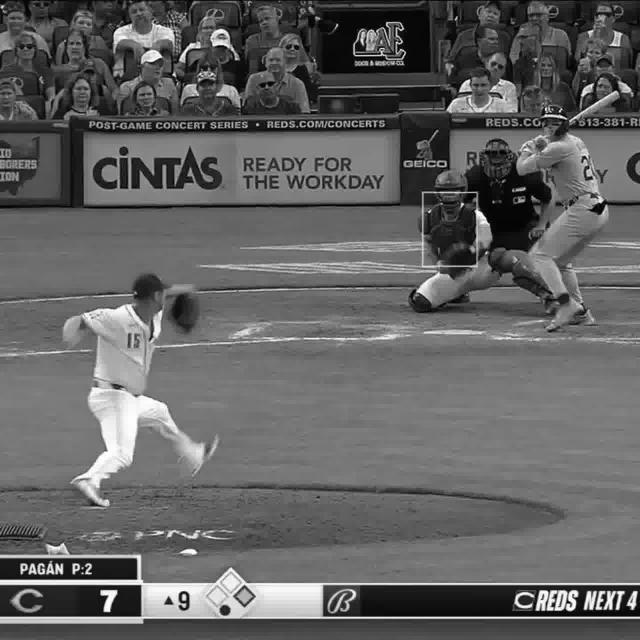base: (408, 324, 492, 337)
baseball_glove: (174, 293, 208, 333), (441, 245, 477, 278)
bat: (571, 87, 622, 128)
shoe: (550, 299, 604, 328), (189, 433, 224, 475), (72, 479, 110, 503)
